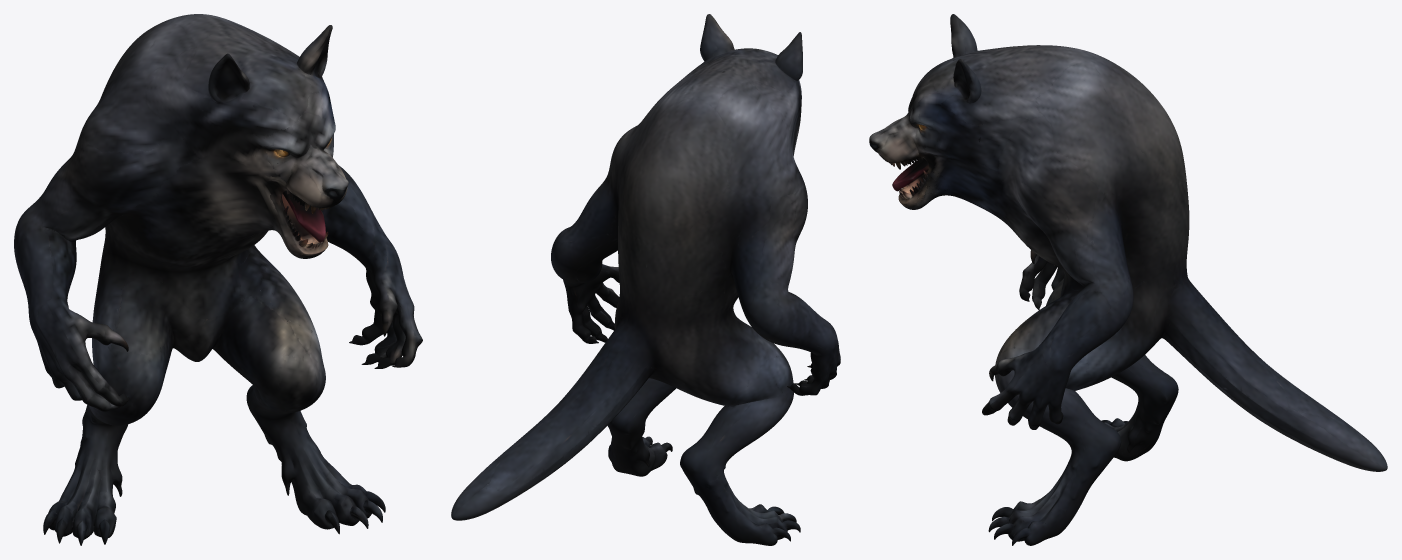
The model's file is werewolf.glb.
The picture shows the model from 3 angles, left to right: view 1: azimuth 30°, elevation 25°; view 2: azimuth 150°, elevation 25°; view 3: azimuth 270°, elevation 25°; orthographic projection. The views are drawn at different scales.
Visible parts, largest first — view 1: material; view 2: material; view 3: material.
Boxes of the visible parts, x1,y1,x2,y2 form: material: (14,14,422,545); material: (451,14,840,545); material: (869,14,1387,545).
Size of the model in its own units: 0.6173 by 0.9121 by 0.9399.
Materials: 1 (1 with a texture image).
